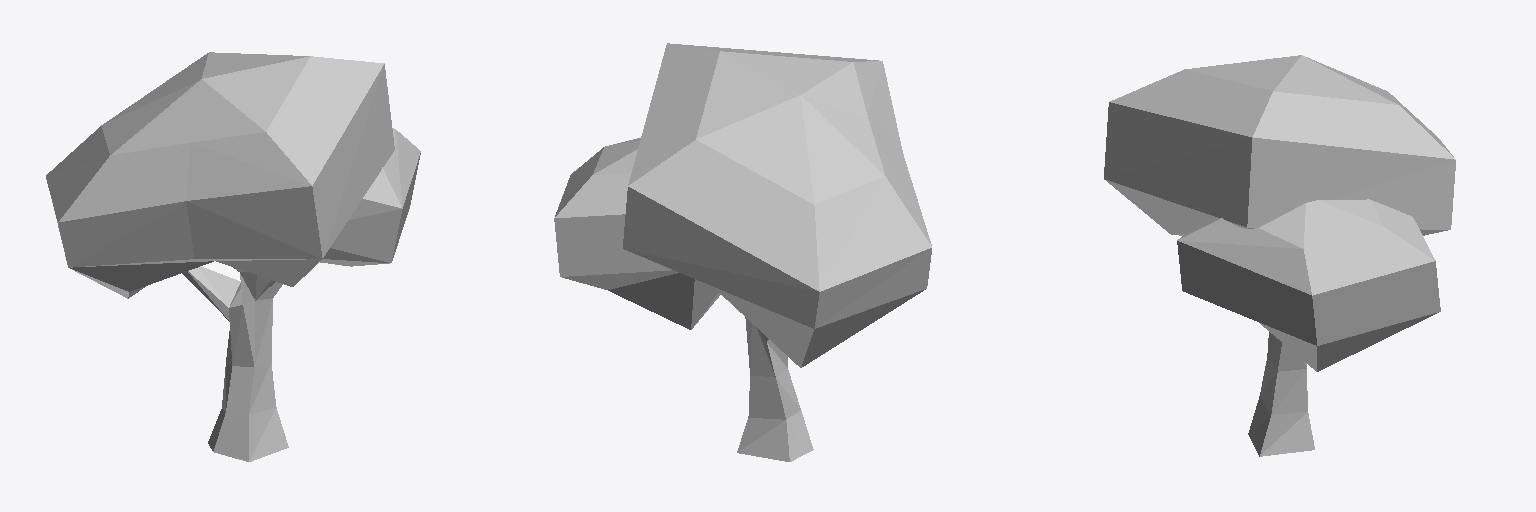
The model's file is Tree2.obj.
3 renders of one model, left to right at view 1: azimuth 30°, elevation 25°; view 2: azimuth 150°, elevation 25°; view 3: azimuth 270°, elevation 25°, orthographic.
Bounding box in the file's own units: 4.02 × 4.02 × 3.38.